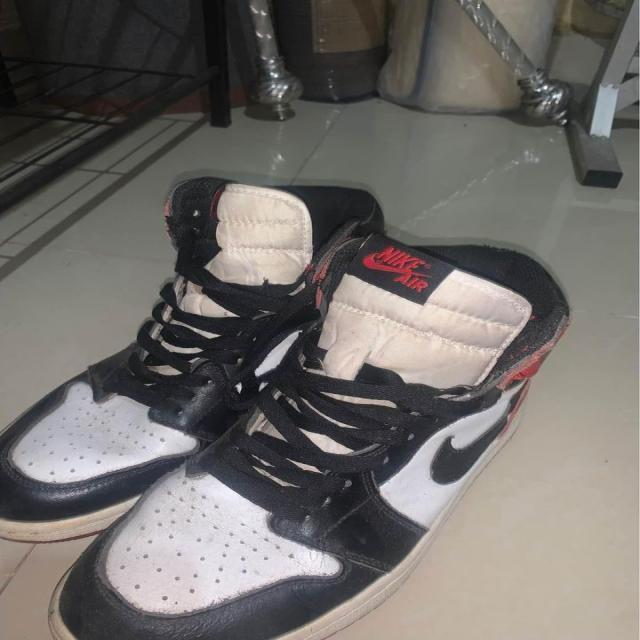nike fake jordan 1: (44, 231, 551, 640), (0, 178, 444, 549)
